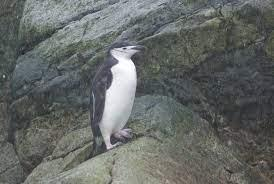chinstrap: (78, 36, 143, 147)
